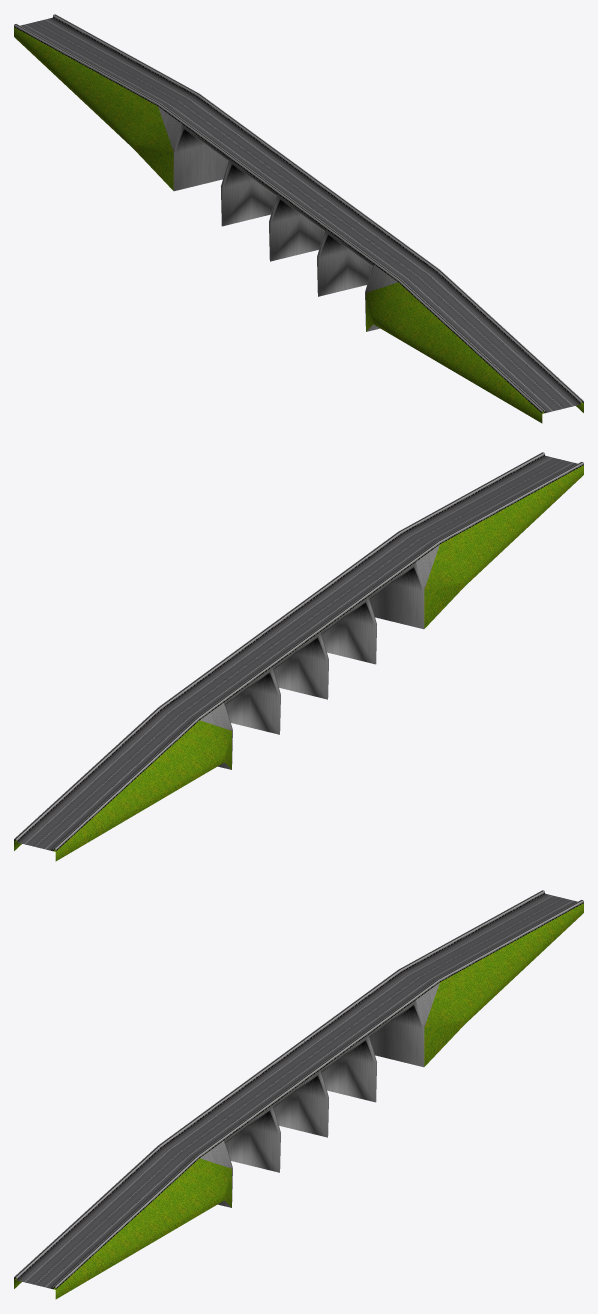
File: brug_weg_1c.fbx
The picture shows the model from 3 angles, top to bottom: view 1: azimuth 30°, elevation 25°; view 2: azimuth 150°, elevation 25°; view 3: azimuth 330°, elevation 25°; orthographic projection.
Parts seen in each view (by area): view 1: brug_weg_1b; view 2: brug_weg_1b; view 3: brug_weg_1b.
Boxes of the visible parts, x1,y1,x2,y2 form: brug_weg_1b: (14, 14, 583, 423); brug_weg_1b: (14, 452, 583, 861); brug_weg_1b: (14, 890, 583, 1299).
Bounding box in the file's own units: 2200 × 1563 × 22003.
